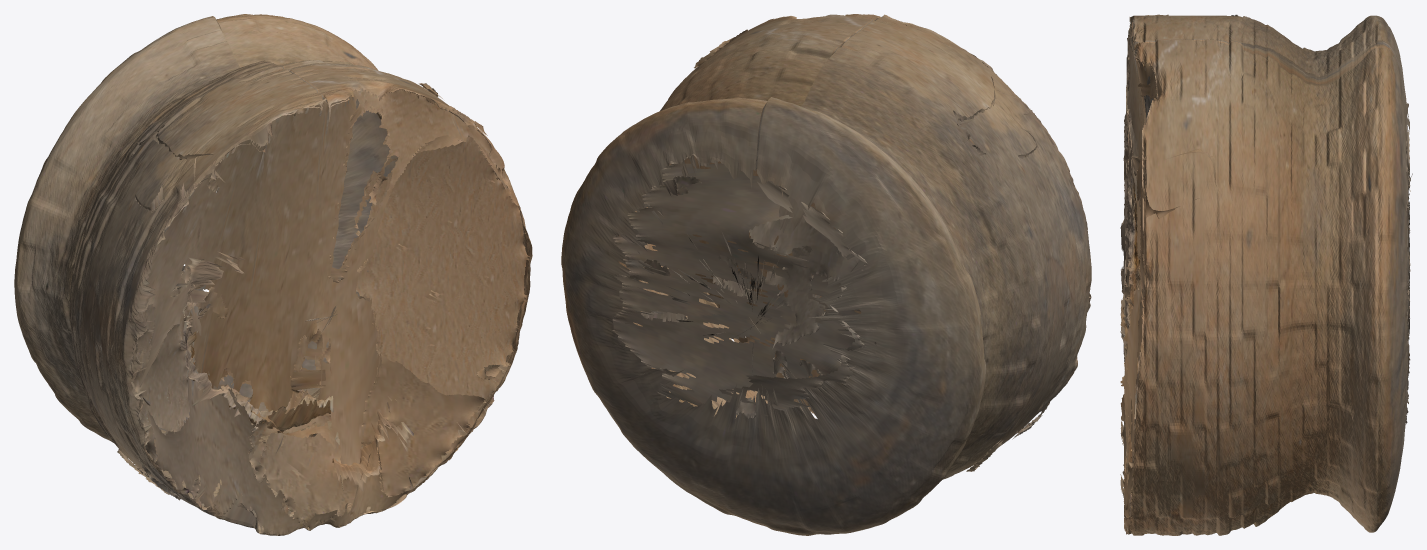
File: mesh_inpaint.glb
3 views of the same model, side by side, from view 1: azimuth 30°, elevation 25°; view 2: azimuth 150°, elevation 25°; view 3: azimuth 270°, elevation 25° (orthographic). The views are drawn at different scales.
Visible parts, largest first — view 1: fill, ipn; view 2: ipn, fill; view 3: ipn, fill.
Part boxes in pixels (<box>): fill: <box>117,83,529,535</box>; ipn: <box>14,14,532,535</box>; ipn: <box>561,14,1091,535</box>; fill: <box>611,19,1049,471</box>; ipn: <box>1123,15,1409,535</box>; fill: <box>1120,14,1412,532</box>.
Size of the model in its own units: 2 by 2 by 1.13.
Materials: 2 (1 with a texture image).
